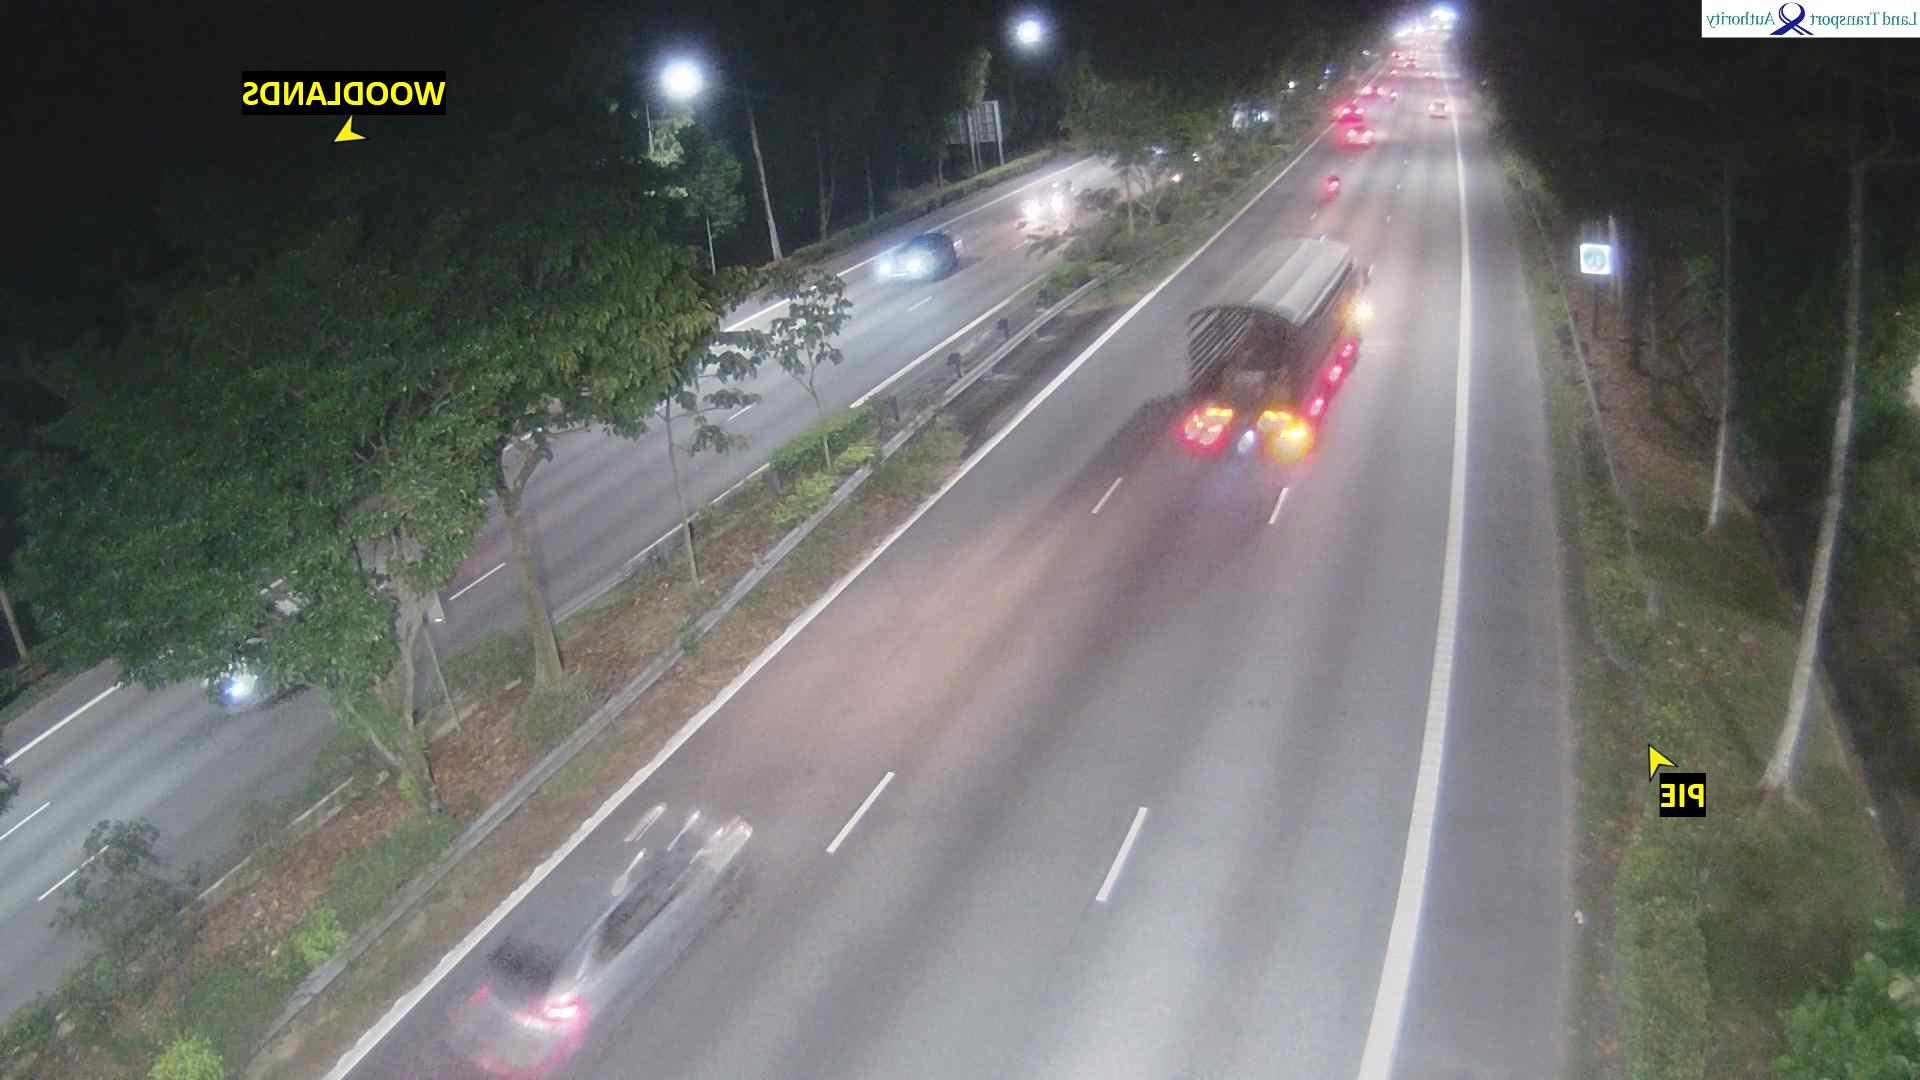cars: (443, 799, 757, 1077), (202, 562, 387, 732), (874, 229, 964, 283), (1016, 179, 1075, 236), (1230, 98, 1278, 137), (1430, 3, 1459, 31), (1344, 122, 1376, 147), (1337, 101, 1366, 125), (1428, 97, 1452, 118), (1359, 84, 1386, 100), (1326, 173, 1343, 197), (1423, 67, 1440, 81), (1405, 56, 1417, 70)
motorcycle: (1385, 90, 1398, 104), (1390, 67, 1401, 78)
trucks: (1176, 232, 1375, 464)
